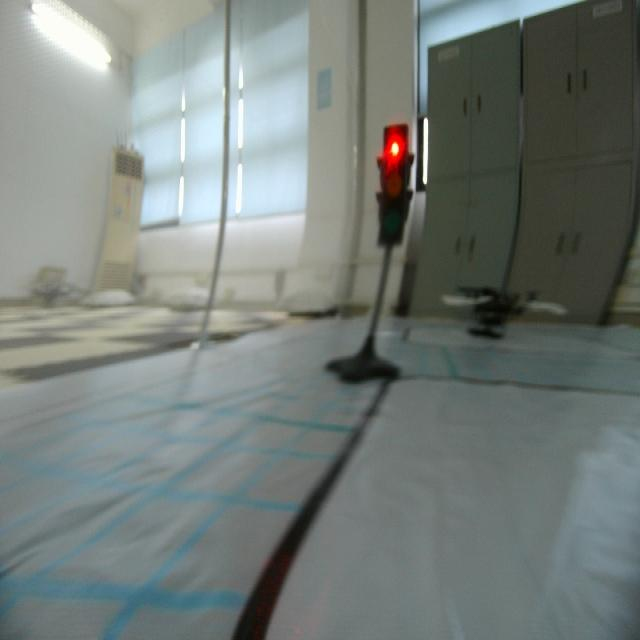red: (372, 113, 410, 259)
